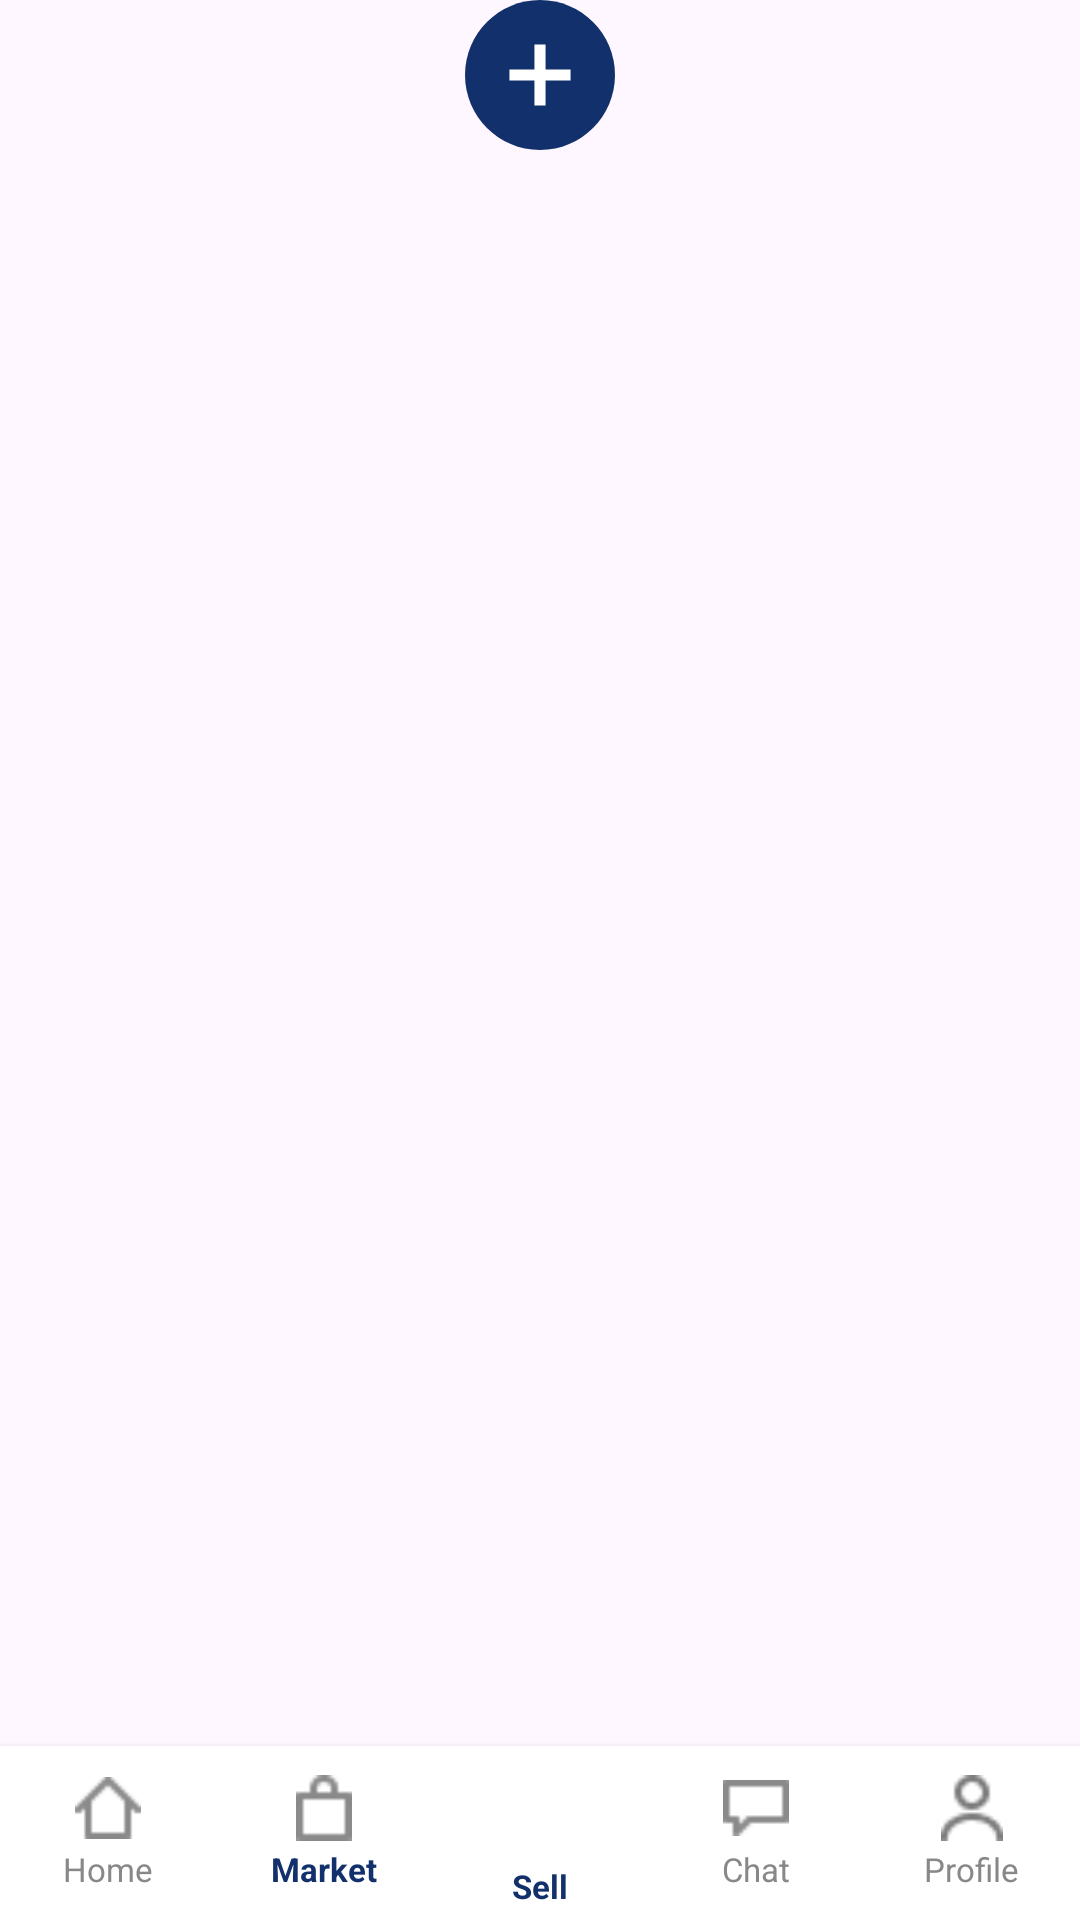

Screen size 1080×1920. Icon name, then its center in pixels as (x=x, y=y):
Sell: (x=540, y=75)
